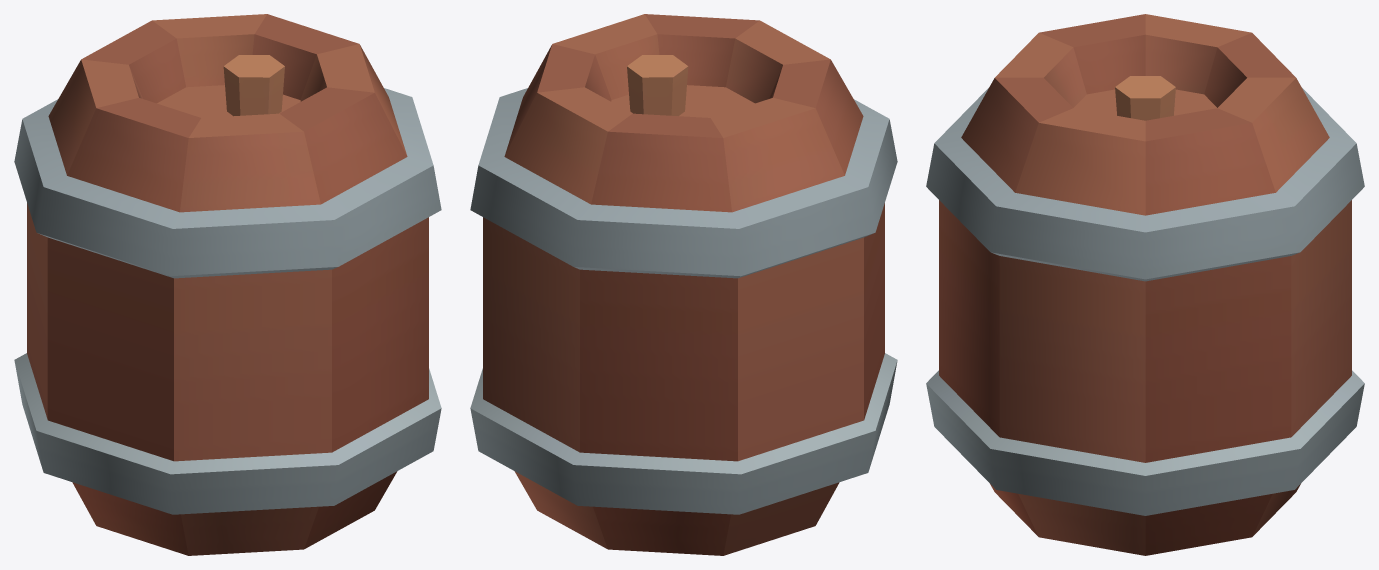
The model's file is kk_barrel_v1.glb.
3 views of the same model, side by side, from view 1: azimuth 30°, elevation 25°; view 2: azimuth 150°, elevation 25°; view 3: azimuth 270°, elevation 25° (orthographic).
Parts seen in each view (by area): view 1: barrel; view 2: barrel; view 3: barrel.
Boxes of the visible parts, box(x1,y1,x2,y2) form: barrel: box(14, 14, 441, 555); barrel: box(470, 14, 897, 555); barrel: box(926, 14, 1364, 555).
Size of the model in its own units: 0.2015 by 0.2117 by 0.2015.
Materials: 1 (1 with a texture image).
